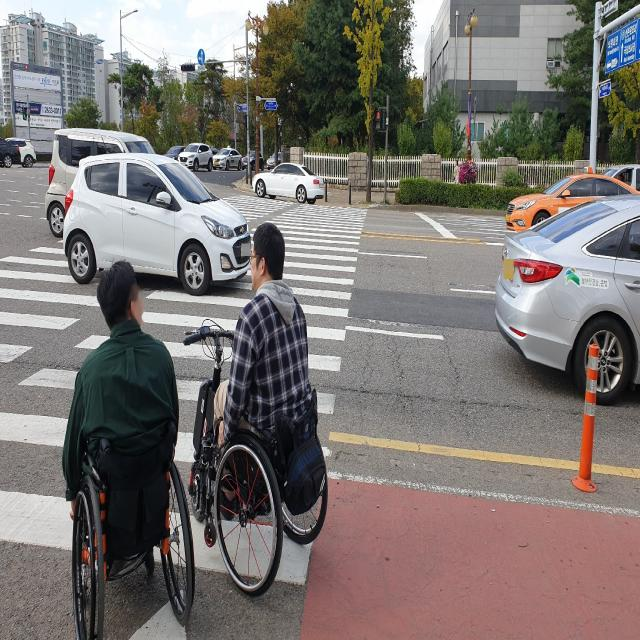빨간불: (375, 108, 386, 131)
횡단보도: (0, 184, 378, 640)
